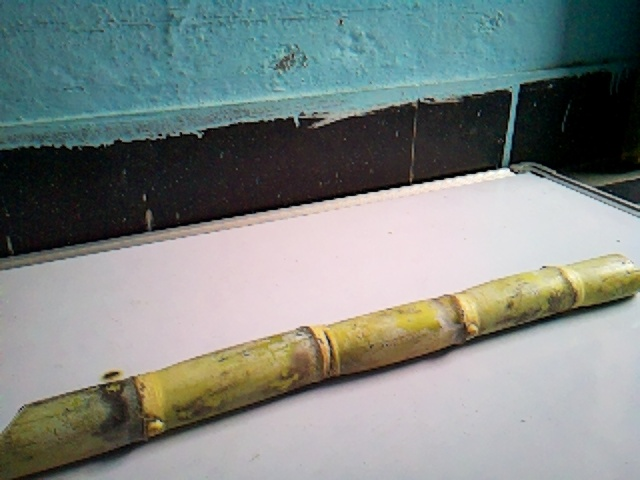Good Sugarcane: (2, 254, 640, 477)
Node: (100, 364, 176, 448), (290, 318, 352, 377), (533, 260, 587, 312), (433, 292, 485, 342)
